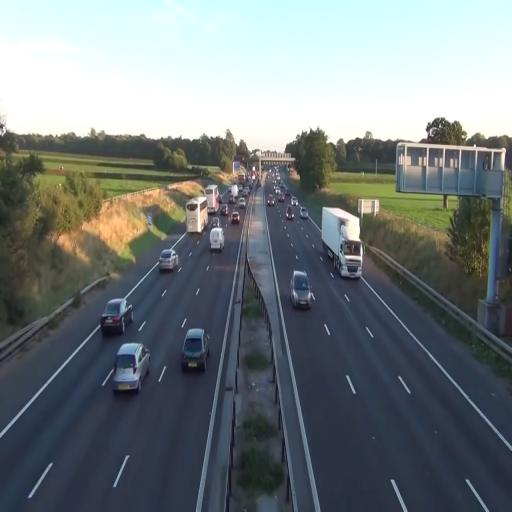vehicle: (321, 205, 363, 280), (113, 342, 151, 392), (100, 296, 133, 335), (181, 327, 209, 372), (290, 270, 313, 310), (186, 197, 208, 235), (159, 249, 179, 274), (209, 226, 225, 253), (286, 202, 294, 220), (232, 210, 242, 224), (299, 207, 308, 219)
